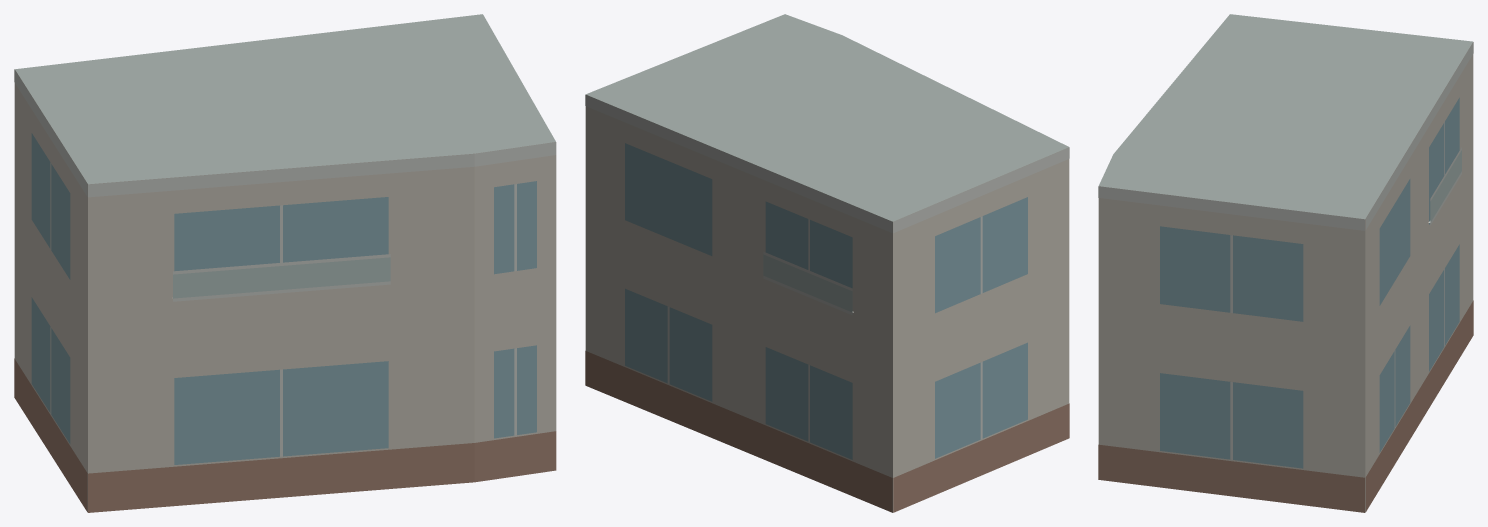
Rendered from survey-upis-32870604.glb.
3 views of the same model, side by side, from view 1: azimuth 30°, elevation 25°; view 2: azimuth 150°, elevation 25°; view 3: azimuth 270°, elevation 25° (orthographic). The views are drawn at different scales.
Parts seen in each view (by area): view 1: survey-upis-32870604.tmp; view 2: survey-upis-32870604.tmp; view 3: survey-upis-32870604.tmp.
Part boxes in pixels (box(x1,y1,x2,y2)): survey-upis-32870604.tmp: box(14, 14, 556, 512); survey-upis-32870604.tmp: box(585, 14, 1069, 512); survey-upis-32870604.tmp: box(1098, 14, 1473, 512).
Size of the model in its own units: 9.16 by 6.1 by 7.07.
